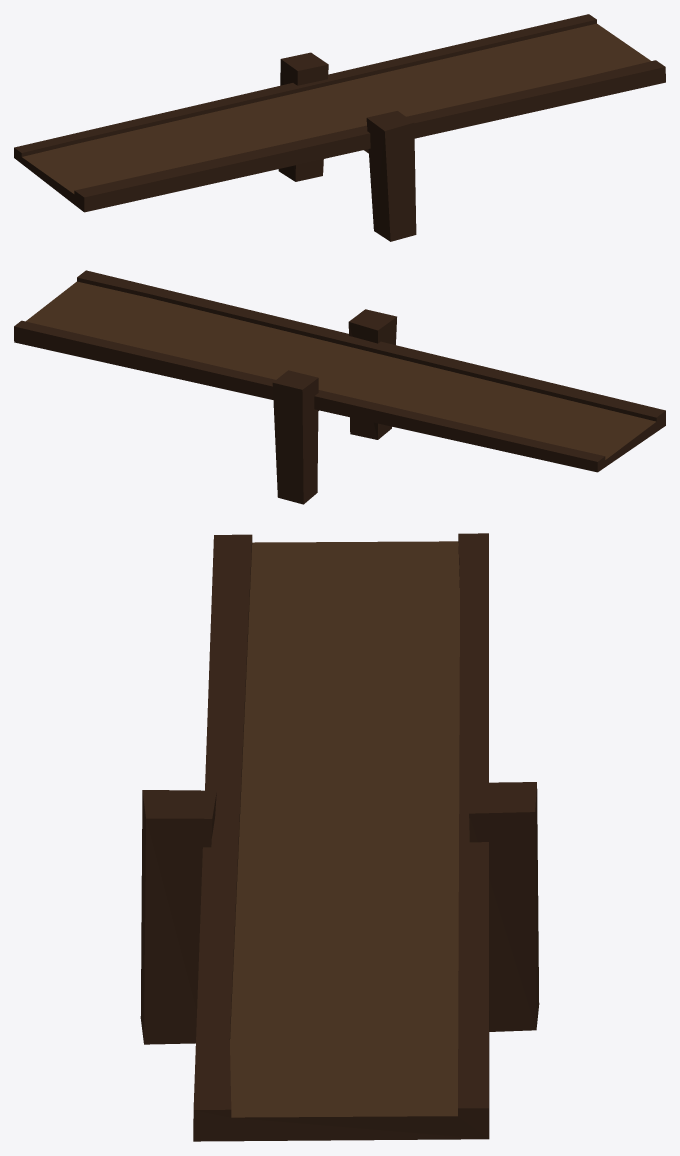
File: Cave_Lair_Wooden_Timber_Bridge_Large_01.fbx
3 views of the same model, one above another, from view 1: azimuth 30°, elevation 25°; view 2: azimuth 150°, elevation 25°; view 3: azimuth 270°, elevation 25° (orthographic). The views are drawn at different scales.
Visible parts, largest first — view 1: Cave_Lair_Wooden_Timber_Bridge_Large_01; view 2: Cave_Lair_Wooden_Timber_Bridge_Large_01; view 3: Cave_Lair_Wooden_Timber_Bridge_Large_01.
Part boxes in pixels (<box>): Cave_Lair_Wooden_Timber_Bridge_Large_01: <box>14,14,665,241</box>; Cave_Lair_Wooden_Timber_Bridge_Large_01: <box>14,270,665,504</box>; Cave_Lair_Wooden_Timber_Bridge_Large_01: <box>140,533,539,1141</box>.
Size of the model in its own units: 14.13 by 2.64 by 4.22.
